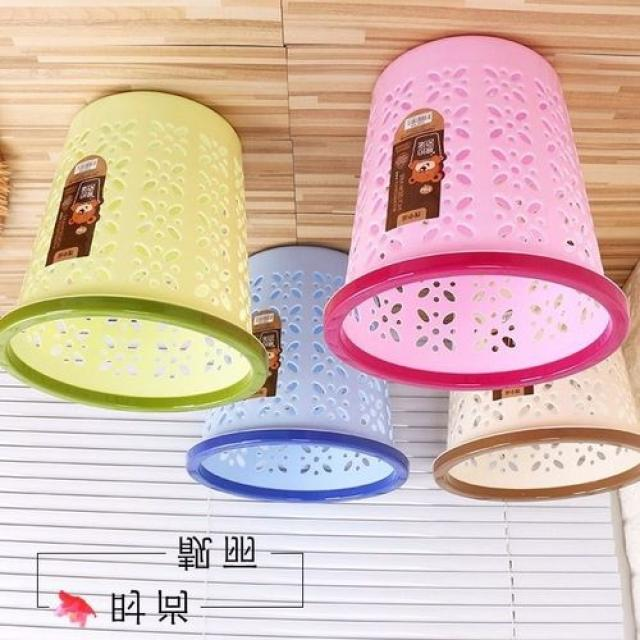dustbin: (322, 33, 631, 394), (2, 86, 279, 420), (182, 242, 414, 509), (430, 350, 640, 510)
